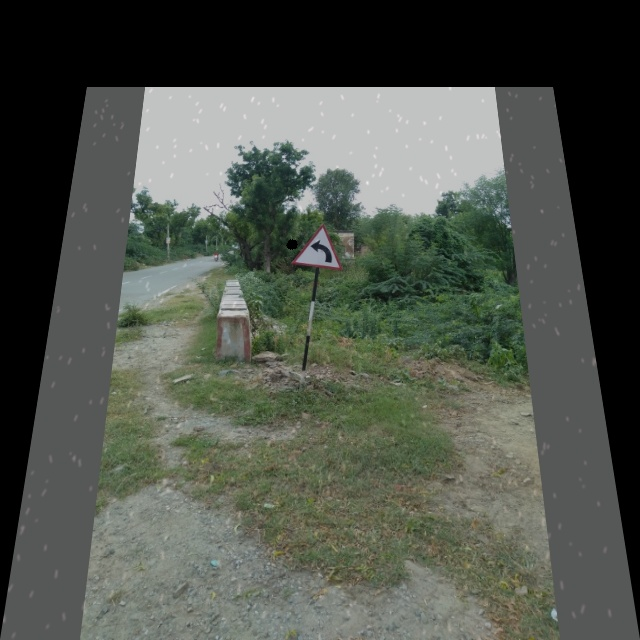Left_Hand_Curve: (290, 223, 347, 275)
